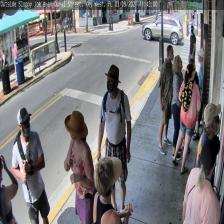person: (97, 64, 131, 213), (12, 107, 50, 224), (64, 110, 94, 224), (182, 136, 220, 224), (172, 65, 201, 173), (194, 103, 221, 209), (92, 155, 132, 223), (158, 45, 174, 154), (182, 58, 198, 153), (171, 56, 184, 160)
